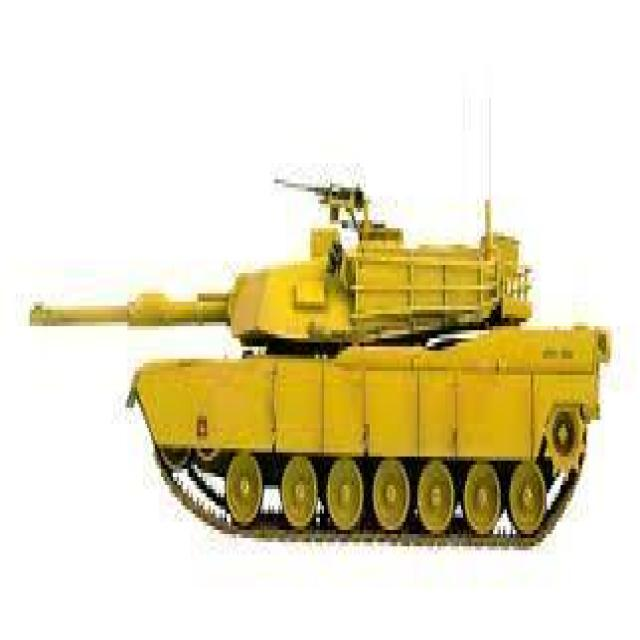Tanks: (23, 188, 613, 550)
